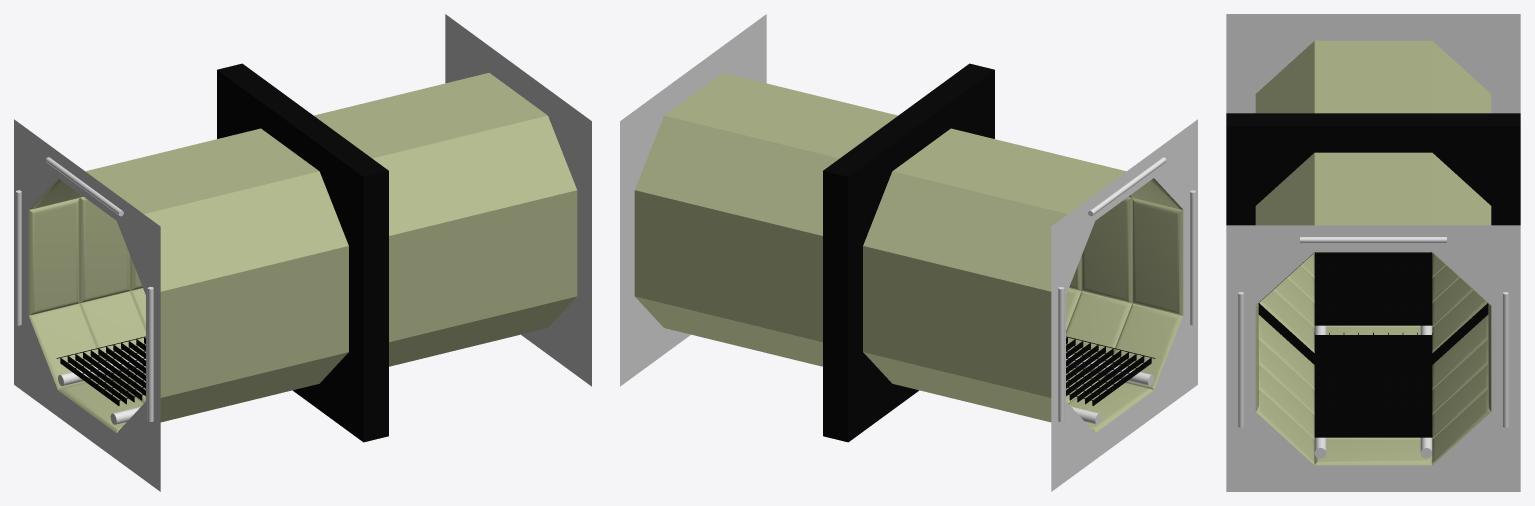
The model's file is Hall.fbx.
The picture shows the model from 3 angles, left to right: view 1: azimuth 30°, elevation 25°; view 2: azimuth 150°, elevation 25°; view 3: azimuth 270°, elevation 25°; orthographic projection.
Parts seen in each view (by area): view 1: Hall.012, Hall.005, HallFrame.003, HallFrame.006, HallFrame.004, HallFloor.002, LightRod0.016, LightRod0.015; view 2: Hall.012, Hall.005, HallFrame.003, HallFrame.006, HallFrame.004, HallFloor.002, LightRod0.015, LightRod0.016; view 3: HallFrame.004, Hall.005, Hall.012, HallFrame.003, HallFrame.006, HallFloor.001, HallFloor.002, LightRod0.005, LightRod0.013, LightRod0.011.
Part boxes in pixels (left/top/right/bottom): Hall.012: left=28, top=128, right=348, bottom=432; Hall.005: left=314, top=72, right=577, bottom=366; HallFrame.003: left=217, top=63, right=388, bottom=442; HallFrame.006: left=14, top=119, right=160, bottom=491; HallFrame.004: left=445, top=14, right=591, bottom=386; HallFloor.002: left=56, top=336, right=145, bottom=405; LightRod0.016: left=147, top=287, right=153, bottom=421; LightRod0.015: left=16, top=190, right=21, bottom=325; Hall.012: left=863, top=128, right=1183, bottom=432; Hall.005: left=634, top=72, right=897, bottom=366; HallFrame.003: left=823, top=63, right=994, bottom=442; HallFrame.006: left=1051, top=119, right=1197, bottom=491; HallFrame.004: left=620, top=14, right=766, bottom=386; HallFloor.002: left=1066, top=336, right=1155, bottom=405; LightRod0.015: left=1058, top=287, right=1064, bottom=421; LightRod0.016: left=1190, top=190, right=1195, bottom=325; HallFrame.004: left=1226, top=225, right=1520, bottom=491; Hall.005: left=1255, top=152, right=1491, bottom=465; Hall.012: left=1255, top=40, right=1491, bottom=352; HallFrame.003: left=1226, top=113, right=1520, bottom=364; HallFrame.006: left=1226, top=14, right=1520, bottom=113; HallFloor.001: left=1314, top=332, right=1432, bottom=437; HallFloor.002: left=1314, top=252, right=1432, bottom=325; LightRod0.005: left=1300, top=237, right=1446, bottom=242; LightRod0.013: left=1503, top=292, right=1508, bottom=427; LightRod0.011: left=1238, top=292, right=1243, bottom=427.
Size of the model in its own units: 1740 by 1000 by 1000.
